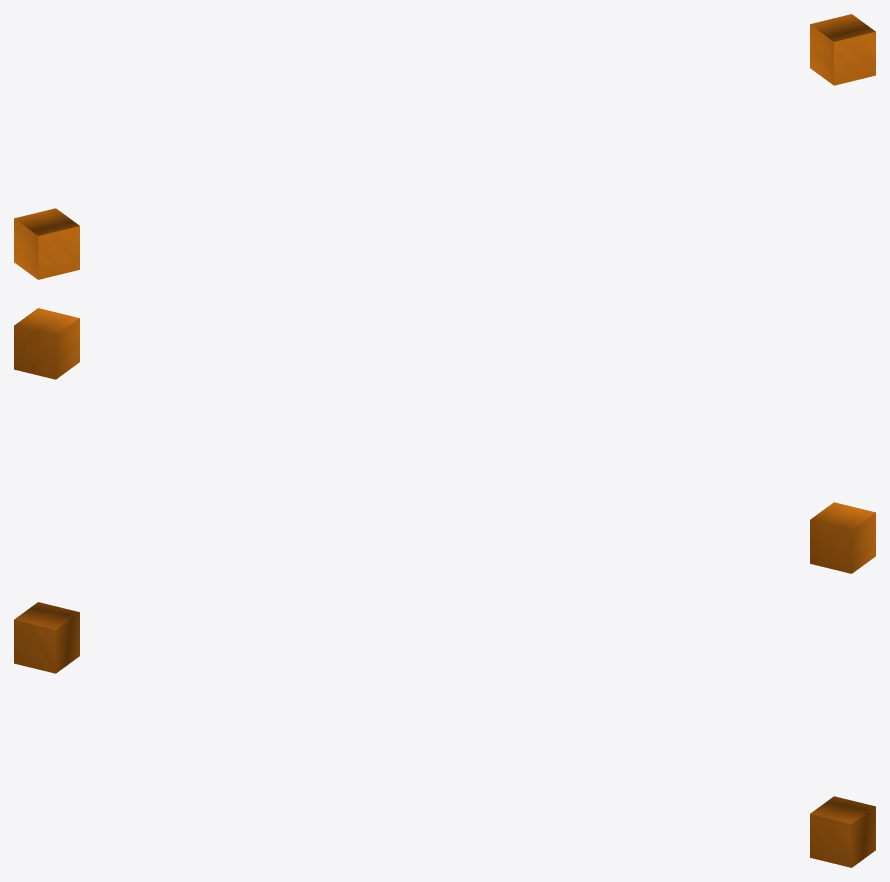
3 views of the same model, one above another, from view 1: azimuth 30°, elevation 25°; view 2: azimuth 150°, elevation 25°; view 3: azimuth 330°, elevation 25° (orthographic).
Size of the model in its own units: 1.6 by 0.08 by 0.08.
Materials: 1 (1 with a texture image).
